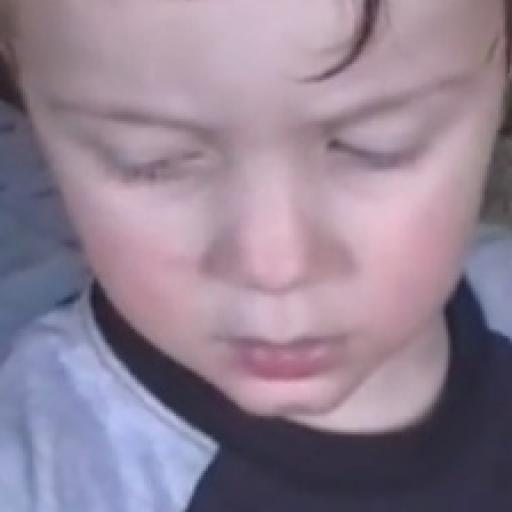Autism: (9, 18, 512, 510)
